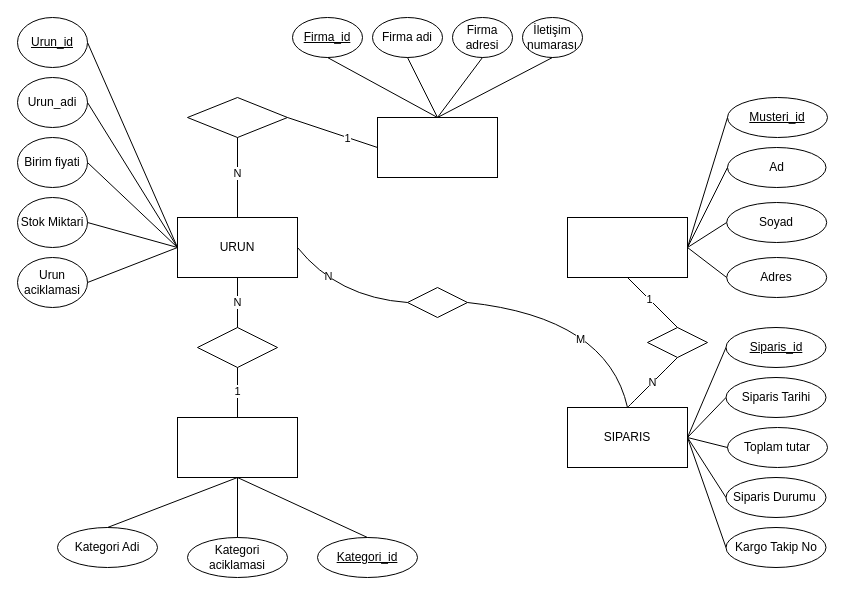
Image size: 845x595. Some labels were removed from this diagram. Each missing label, with the centre of its shape:
Barındırır: point 237,347
İçerir: point 437,302
KATEGORI: point 237,447
MUSTERİ: point 627,247
Tedarik eder: point 237,117
TEDARIKCI FIRMA: point 437,147
Verir: point 677,342
